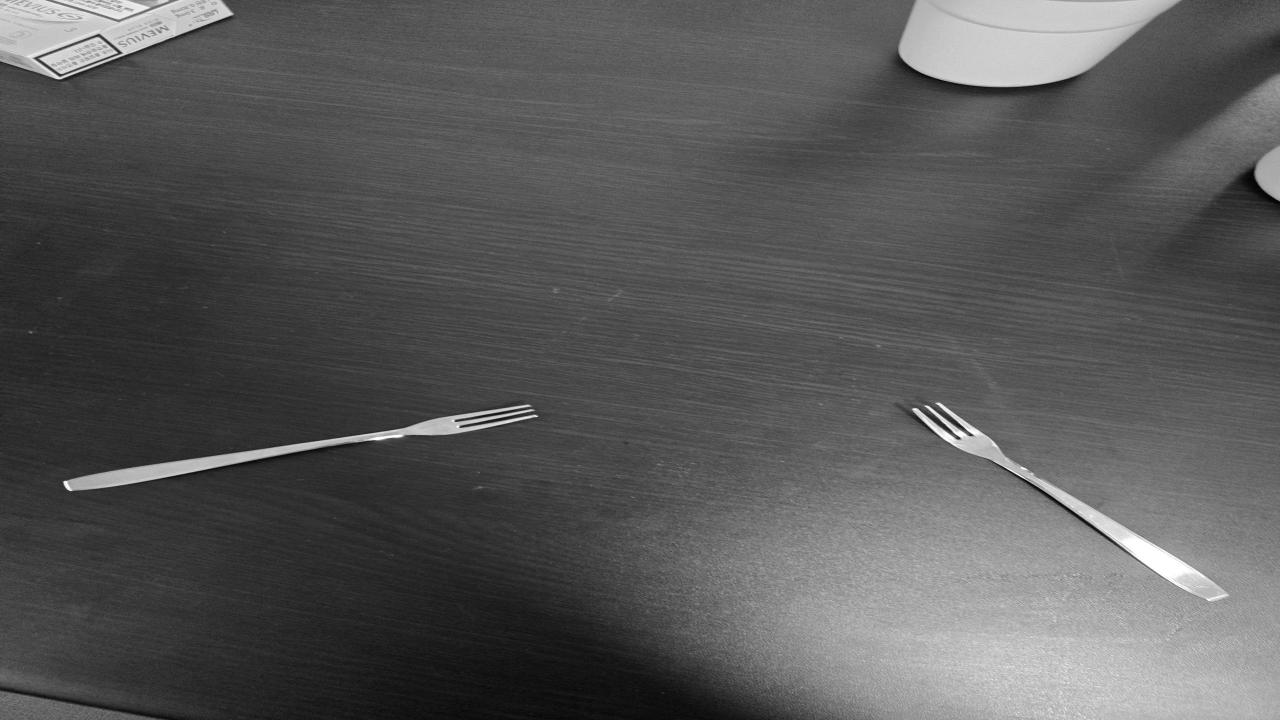fork: (900, 395, 1237, 606), (47, 402, 549, 494)
